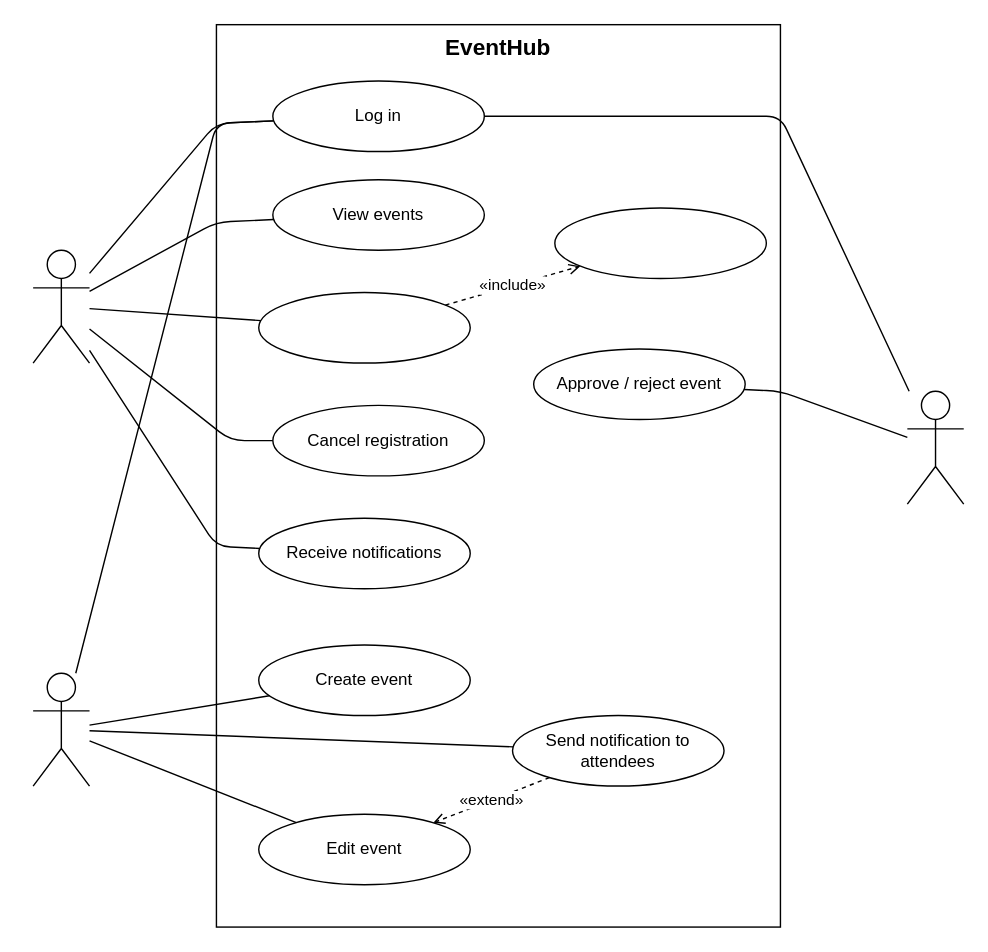
The diagram is 988 pixels wide and 952 high, and some of its shapes have lost their labels. Each missing label, with the box of its shape:
Admin: (906, 390, 964, 504)
Check capacity: (553, 207, 766, 278)
Organizer: (32, 672, 90, 786)
Register for event: (257, 291, 470, 363)
Student: (32, 249, 90, 363)
